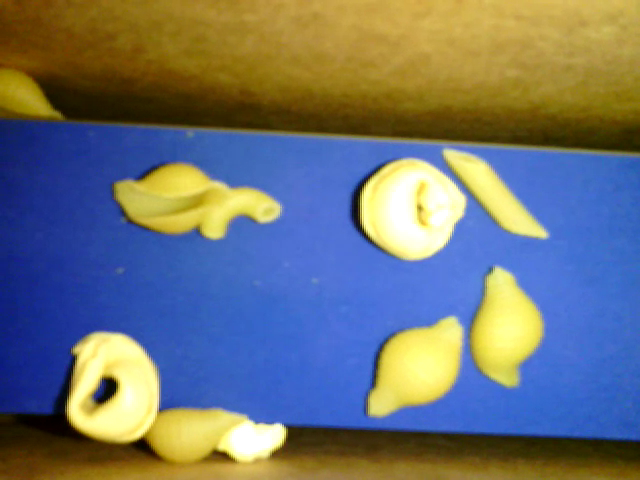elbow: (200, 188, 282, 243)
penne: (443, 146, 548, 238)
shell: (366, 313, 465, 420), (468, 263, 545, 389), (116, 162, 236, 235), (144, 406, 250, 464), (2, 69, 67, 123)
tortellini: (353, 154, 470, 263), (60, 328, 163, 446)
